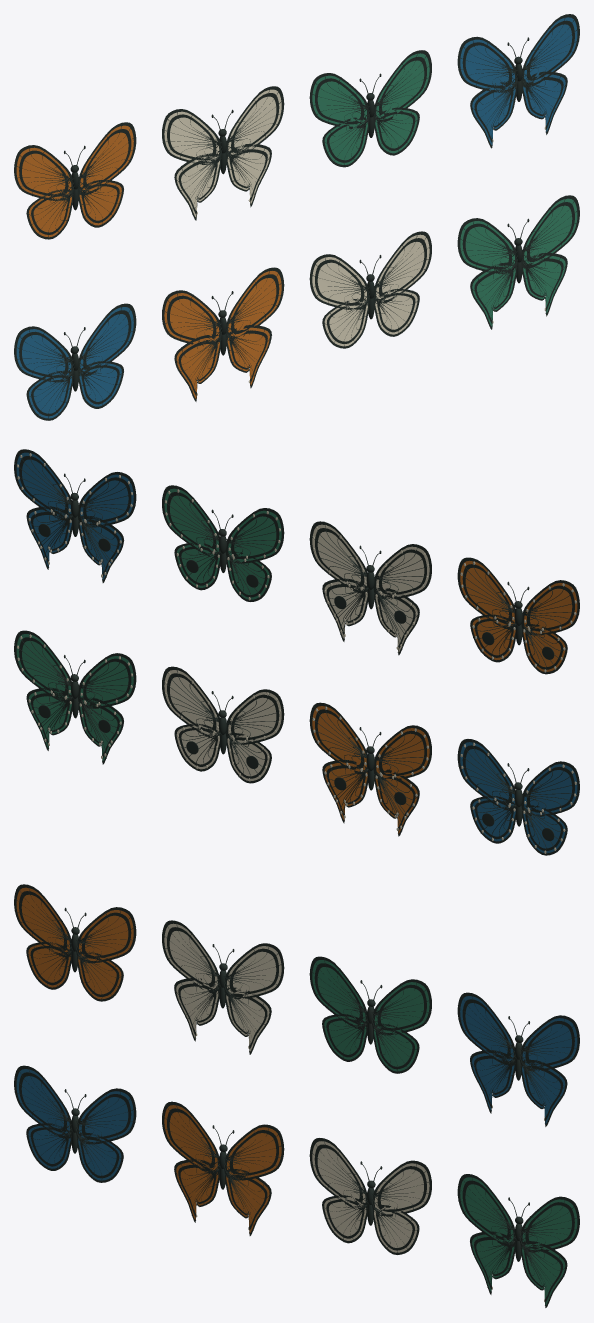
The picture shows the model from 3 angles, top to bottom: view 1: azimuth 30°, elevation 25°; view 2: azimuth 150°, elevation 25°; view 3: azimuth 330°, elevation 25°; orthographic projection.
Visible parts, largest first — view 1: B01_SPEC_Chitin_export, B01_SPEC_Pale scales_export, B01_SPEC_Iridescent jade_export, B01_SPEC_Iridescent blue_export, B01_SPEC_Ochre scales_export; view 2: B01_SPEC_Chitin_export, B01_SPEC_Pale scales_export, B01_SPEC_Iridescent blue_export, B01_SPEC_Iridescent jade_export, B01_SPEC_Ochre scales_export; view 3: B01_SPEC_Chitin_export, B01_SPEC_Pale scales_export, B01_SPEC_Iridescent jade_export, B01_SPEC_Iridescent blue_export, B01_SPEC_Ochre scales_export.
Boxes of the visible parts, <box> form: B01_SPEC_Chitin_export: <box>14,14,579,420</box>; B01_SPEC_Pale scales_export: <box>164,89,545,395</box>; B01_SPEC_Iridescent jade_export: <box>312,53,577,326</box>; B01_SPEC_Iridescent blue_export: <box>16,17,577,418</box>; B01_SPEC_Ochre scales_export: <box>16,125,281,398</box>; B01_SPEC_Chitin_export: <box>14,449,579,855</box>; B01_SPEC_Pale scales_export: <box>17,453,576,853</box>; B01_SPEC_Iridescent blue_export: <box>16,452,577,853</box>; B01_SPEC_Iridescent jade_export: <box>16,488,281,761</box>; B01_SPEC_Ochre scales_export: <box>312,560,577,833</box>; B01_SPEC_Chitin_export: <box>14,884,579,1307</box>; B01_SPEC_Pale scales_export: <box>164,923,544,1302</box>; B01_SPEC_Iridescent jade_export: <box>312,960,577,1305</box>; B01_SPEC_Iridescent blue_export: <box>16,996,577,1180</box>; B01_SPEC_Ochre scales_export: <box>16,887,281,1232</box>.
Size of the model in its own units: 2.68 by 1.35 by 0.039.
